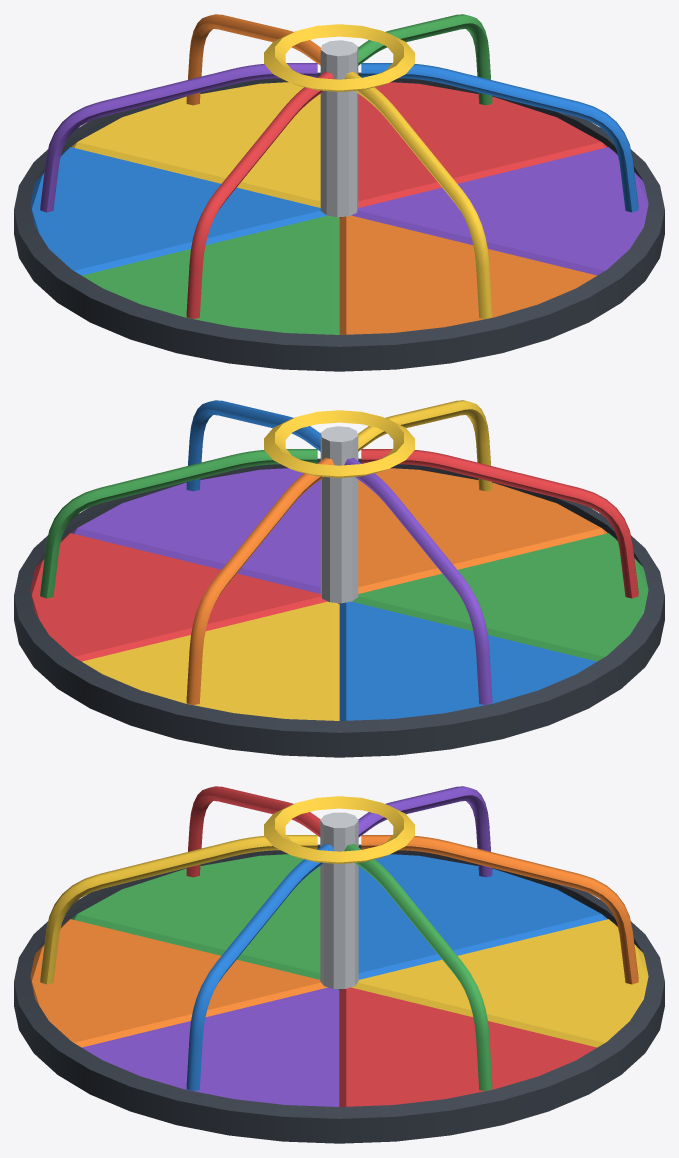
File: gira_gira_praca.glb
3 views of the same model, one above another, from view 1: azimuth 30°, elevation 25°; view 2: azimuth 150°, elevation 25°; view 3: azimuth 270°, elevation 25° (orthographic).
Parts seen in each view (by area): view 1: gira_gira; view 2: gira_gira; view 3: gira_gira.
Part boxes in pixels (x1,y1,x2,y2): gira_gira: (14, 14, 664, 371); gira_gira: (14, 400, 664, 757); gira_gira: (14, 786, 664, 1143).
Bounding box in the file's own units: 2.38 × 0.99 × 2.38.
Materials: 1 (1 with a texture image).
